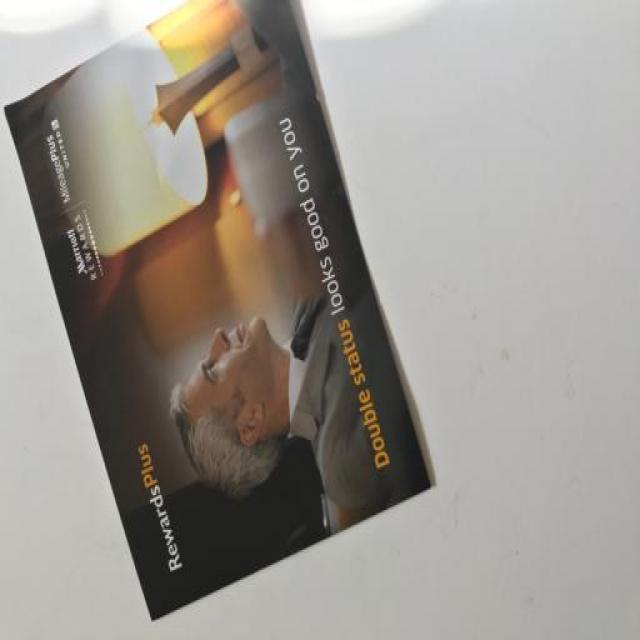paper: (3, 1, 444, 640)
